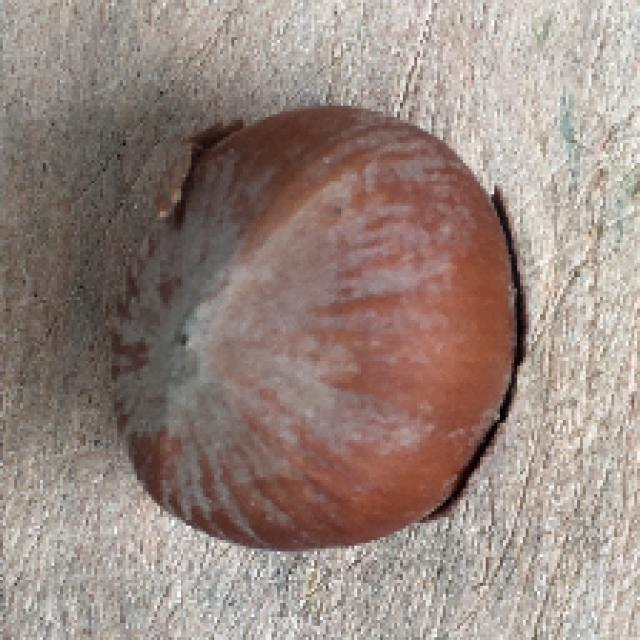damagedHazelnut: (100, 100, 528, 554)
